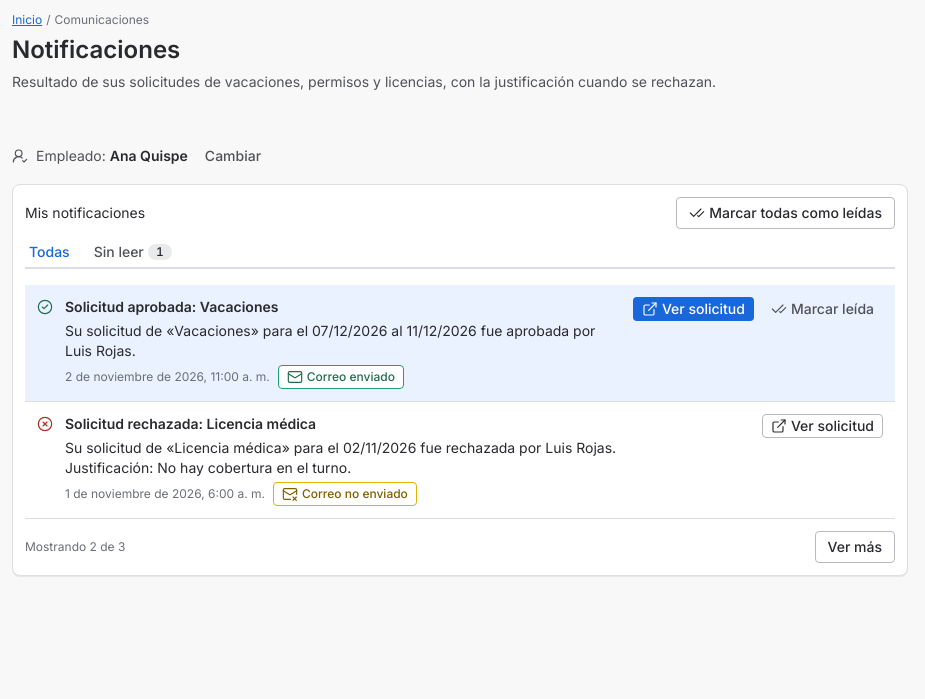
Test: Vista de notificaciones › «Ver más» agrega la página siguiente sin repetir alertas y oculta el botón al terminar
expect the text "Mostrando 2 de 3" is shown: met, box [25,537,125,557]
Click the button "Ver más".
click(855, 547)  # box [814,531,895,563]
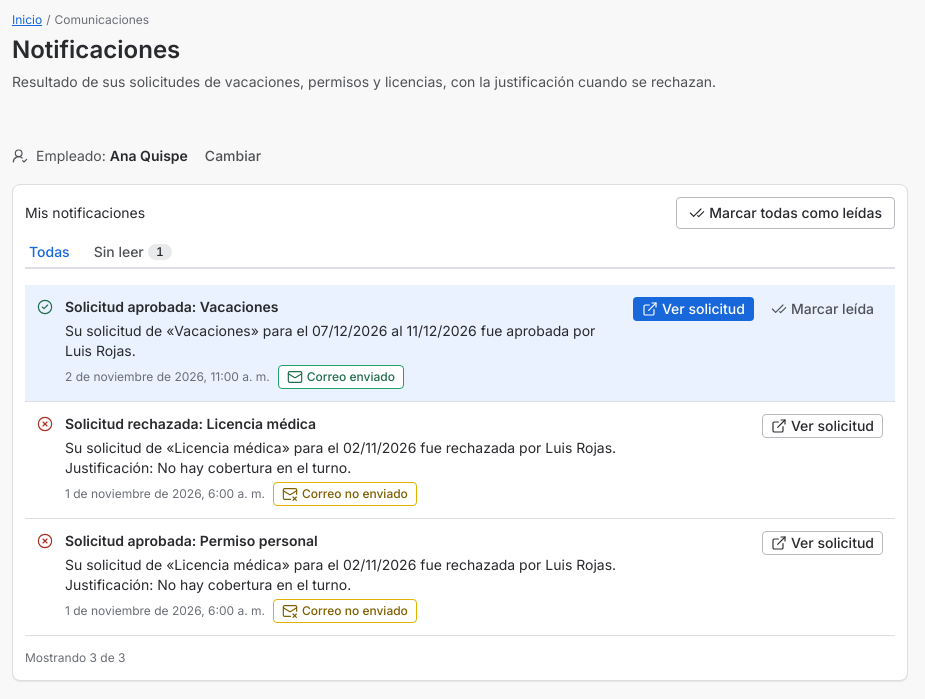
expect the text "Mostrando 3 de 3" is shown: met, box [25,648,126,668]
expect the heading "Solicitud aprobada: Permiso personal" is shown: met, box [65,532,318,549]
expect the button "Ver más" is gone: met
